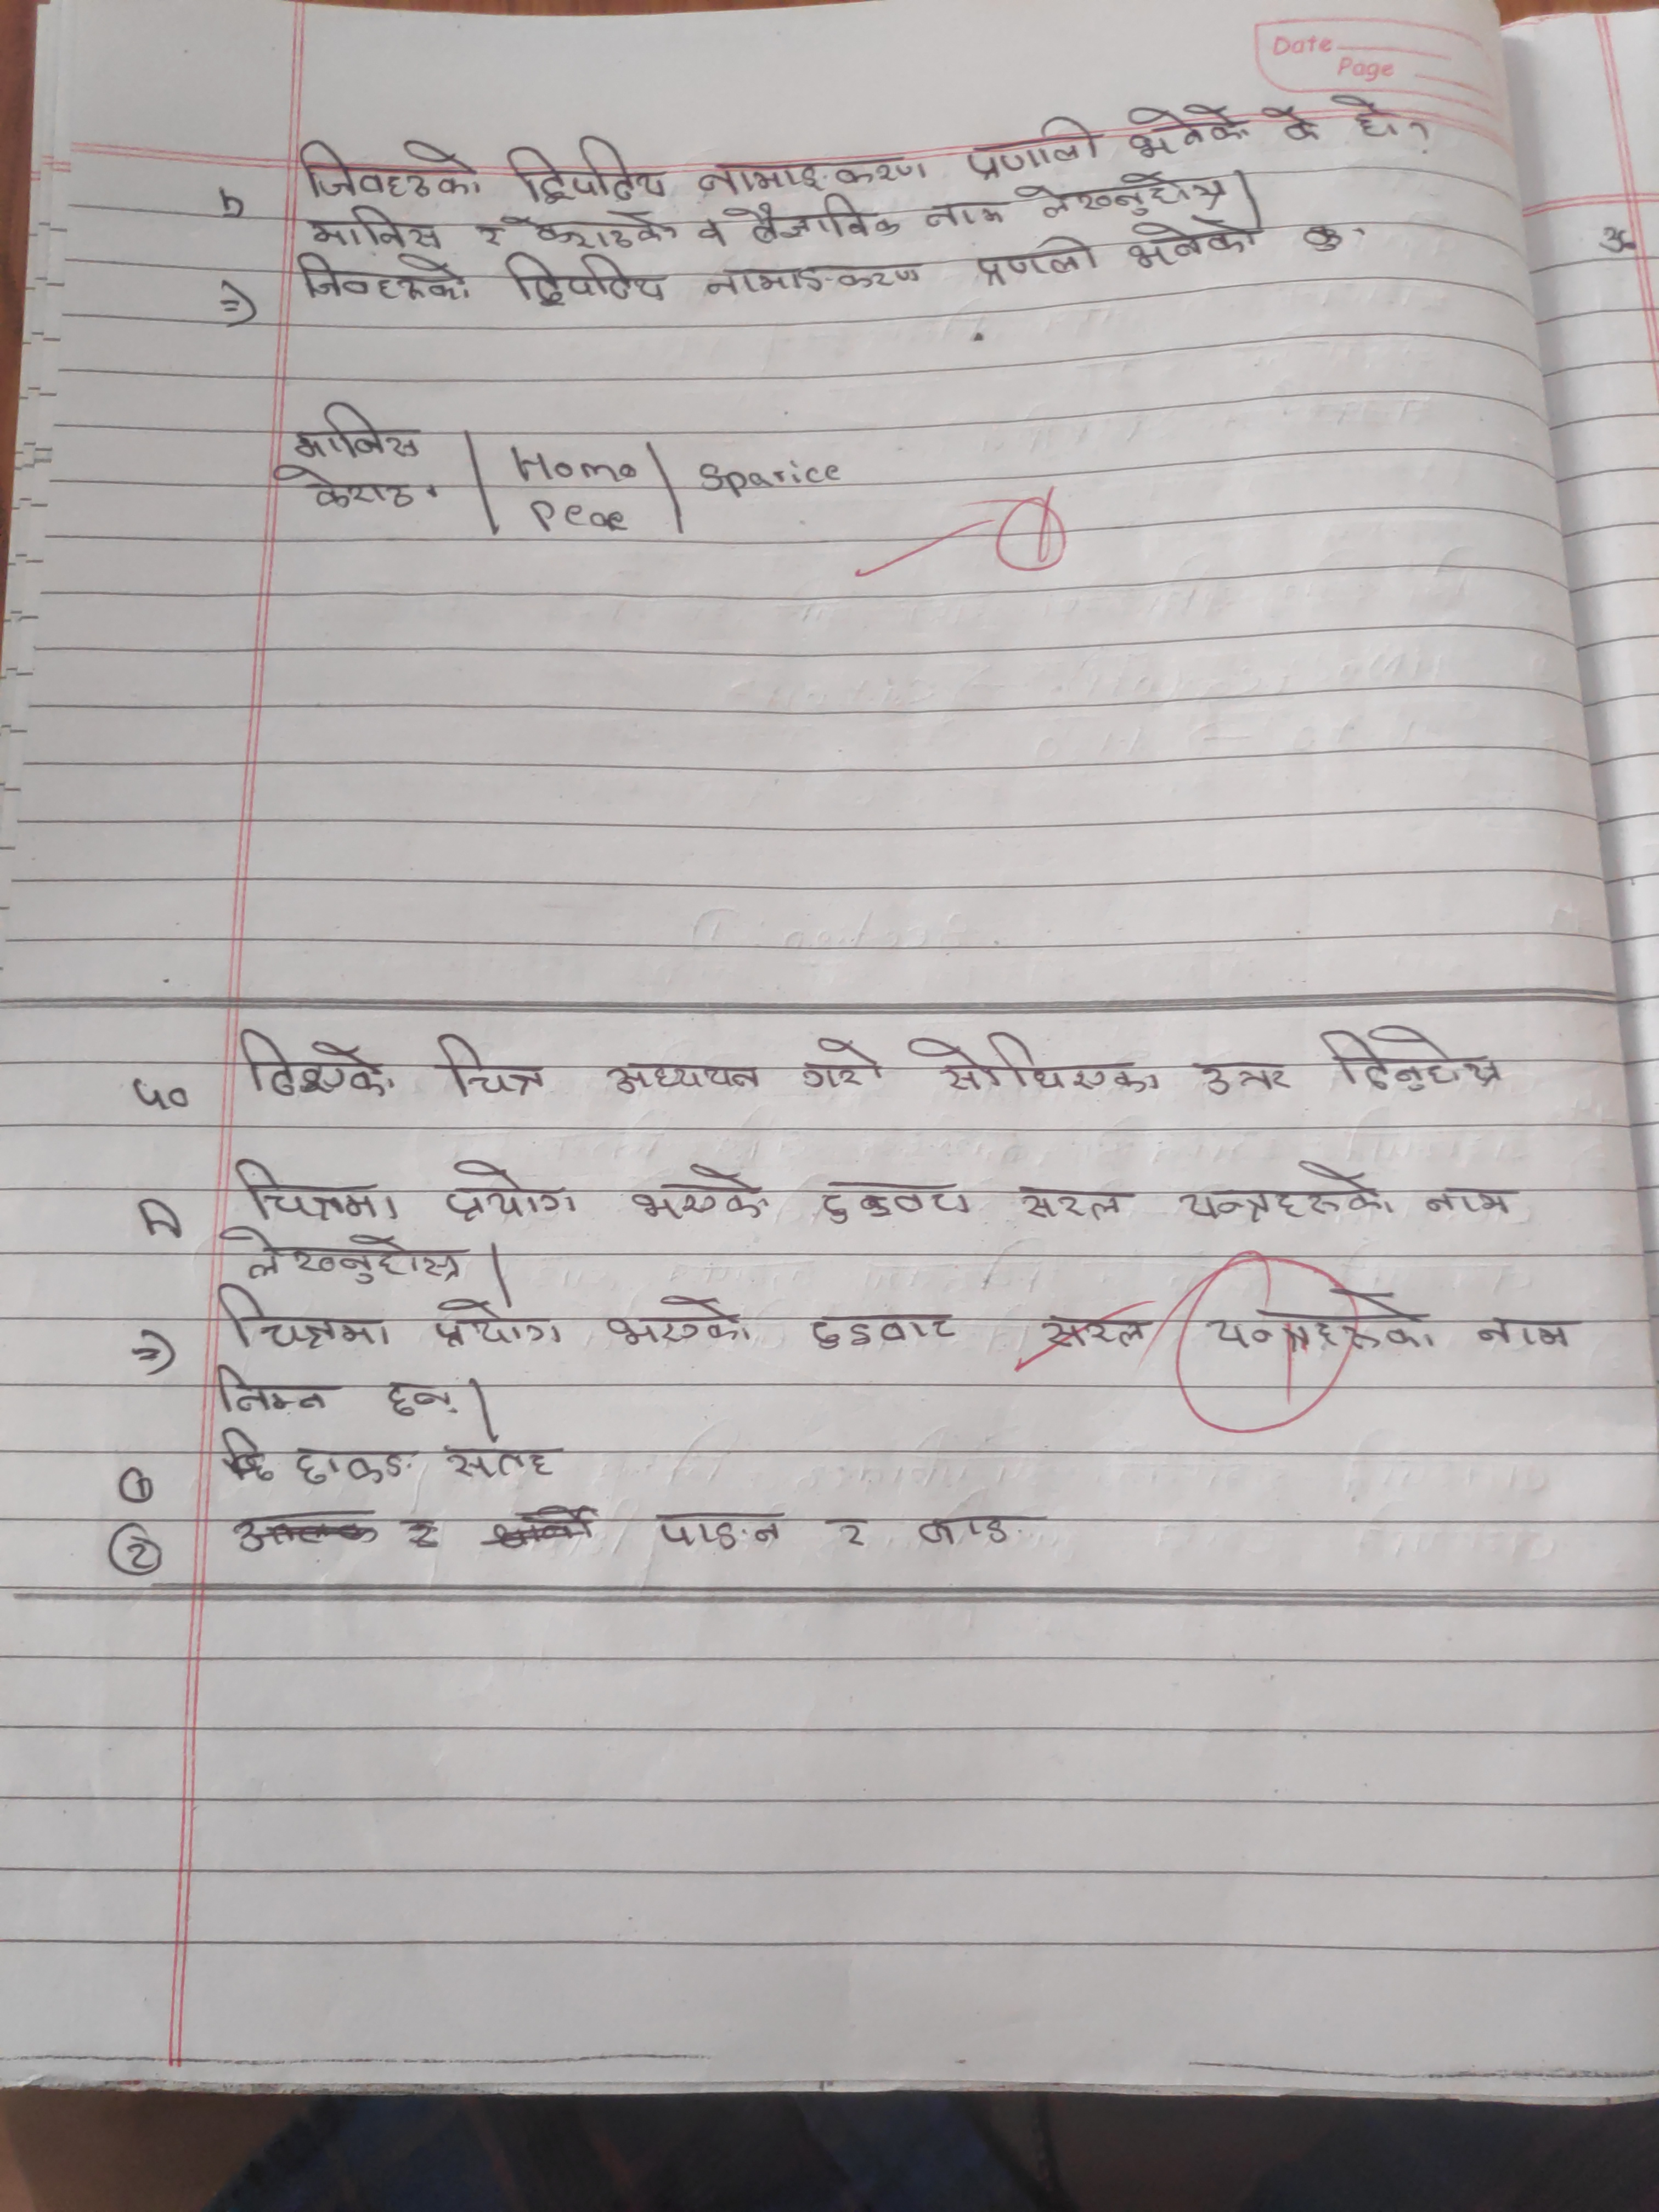text: (904, 1031, 1164, 1099), (1209, 1287, 1443, 1359), (218, 1224, 465, 1287), (1175, 1155, 1398, 1221), (1317, 1021, 1504, 1097), (291, 138, 488, 202), (507, 132, 676, 206), (213, 1287, 394, 1355), (232, 1153, 403, 1224), (234, 1029, 397, 1099), (695, 150, 938, 193), (1018, 172, 1232, 221), (627, 1162, 775, 1230), (291, 399, 429, 467), (507, 254, 671, 310), (298, 251, 469, 303), (439, 1158, 577, 1223), (721, 195, 903, 244), (964, 117, 1107, 176), (606, 1292, 756, 1348), (706, 261, 924, 300), (432, 1033, 549, 1104), (1124, 99, 1253, 160), (816, 1177, 974, 1226), (1124, 219, 1263, 273), (432, 1294, 563, 1352), (275, 467, 418, 517), (652, 1503, 789, 1555), (807, 1305, 957, 1352), (605, 1059, 765, 1103), (308, 204, 444, 254), (519, 209, 683, 251), (974, 233, 1103, 286), (206, 1366, 331, 1418), (437, 1439, 570, 1482), (293, 1446, 420, 1491), (793, 1035, 892, 1092), (917, 1507, 1040, 1552), (1019, 1179, 1129, 1226), (1033, 1310, 1147, 1350), (1476, 1313, 1588, 1353), (1190, 1055, 1290, 1099), (1337, 94, 1403, 152), (1420, 1186, 1525, 1217), (380, 1378, 458, 1420), (1262, 101, 1324, 148), (922, 200, 1012, 232), (467, 221, 507, 247)
